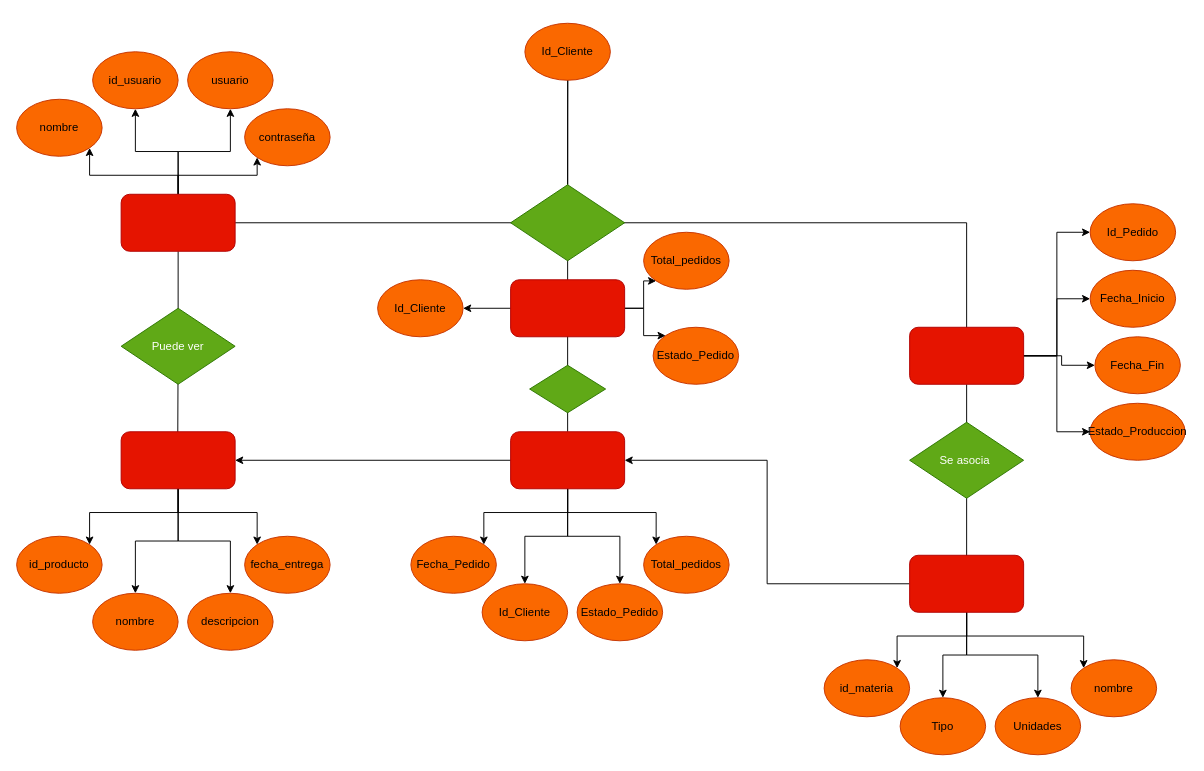
Some shapes in this 1204 by 771 pixel diagram are drawn without their labels. Each missing label, with the box of its shape:
DETALLE_PEDIDOS: (510, 431, 625, 489)
MATERIA PRIMA: (909, 554, 1024, 612)
PEDIDOS: (510, 279, 625, 337)
Posee: (529, 364, 606, 413)
PRODUCCION: (909, 326, 1024, 384)
PRODUCTOS: (120, 431, 235, 489)
Realiza: (510, 184, 625, 261)
USUARIOS: (120, 193, 235, 251)
